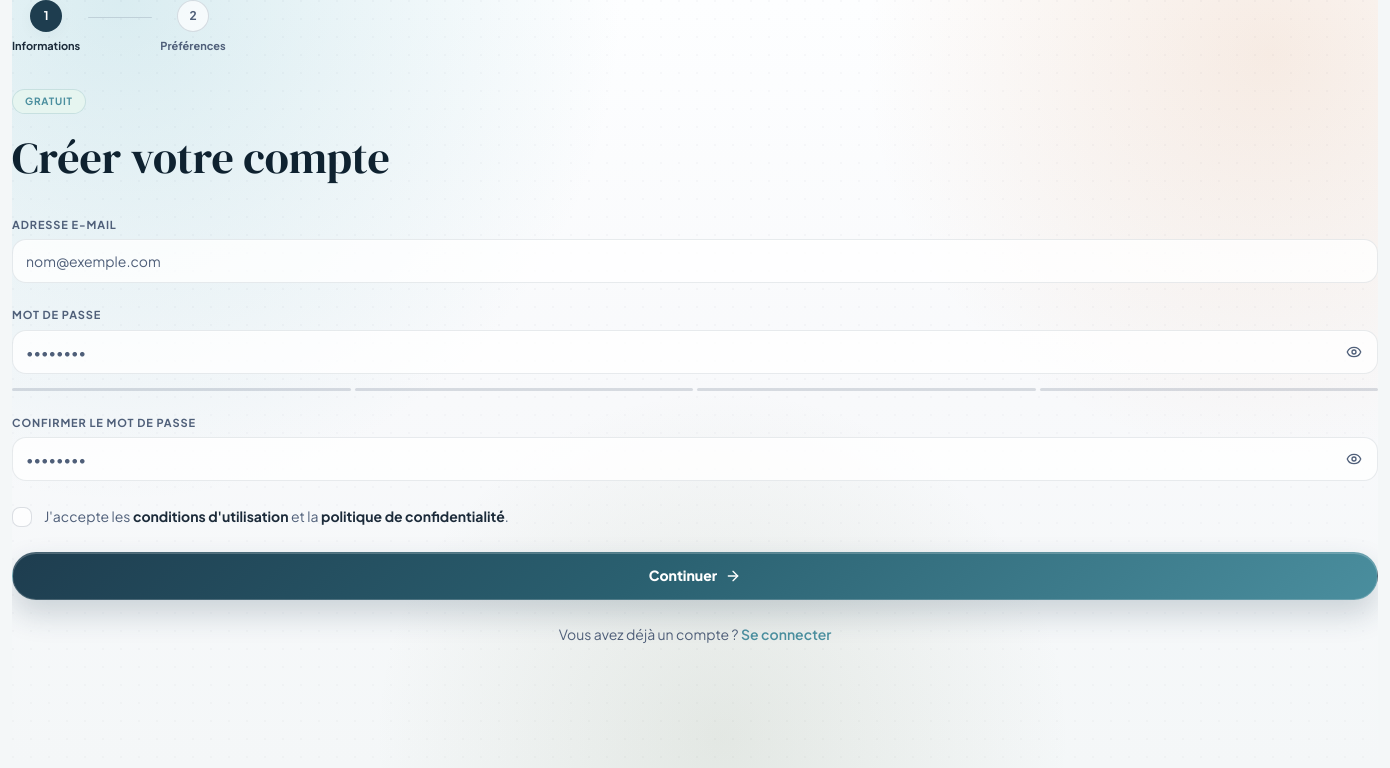
Test: RegisterStep1Form › affiche une erreur si le mot de passe manque une majuscule
The image size is (1390, 768).
Type "user@example.com" into the field labelled "ADRESSE E-MAIL" at {"x": 695, "y": 261}, box [12,239,1378,283]
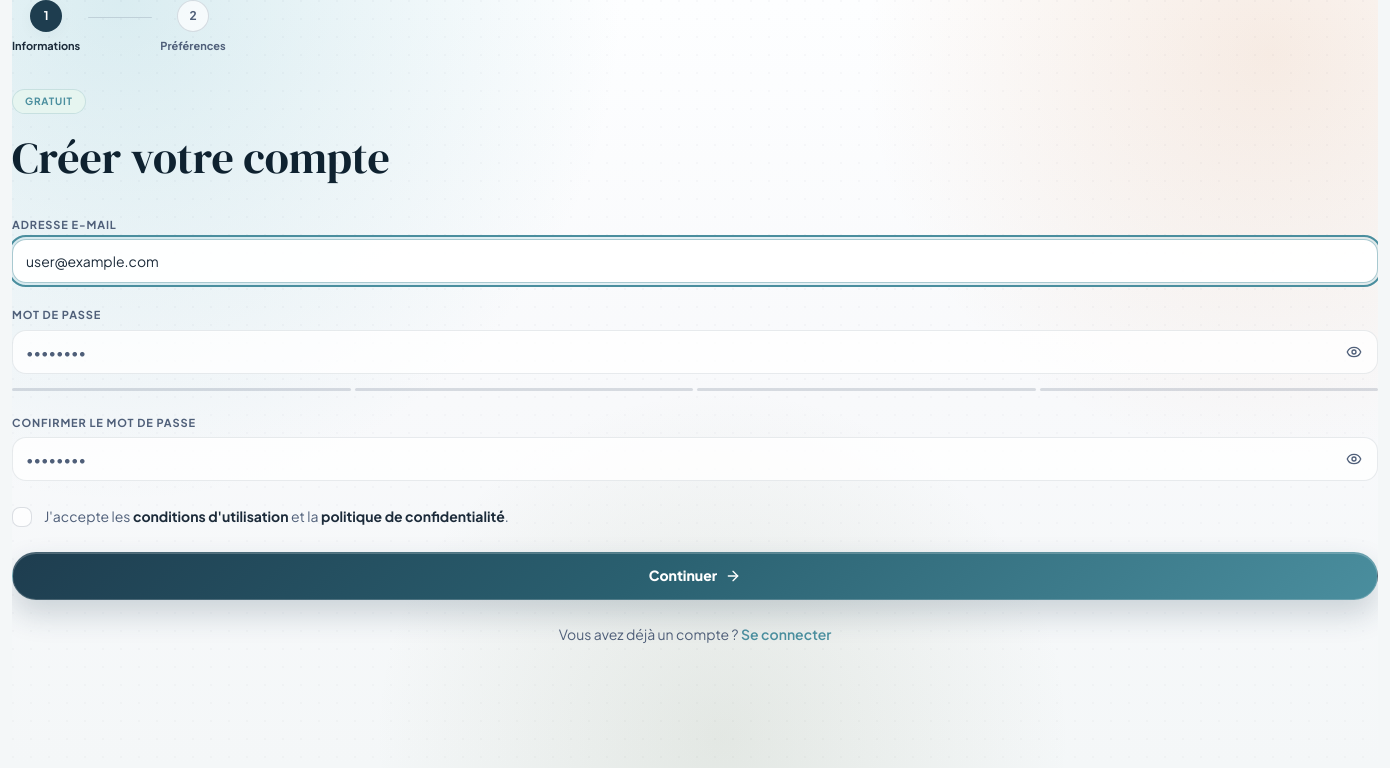
Type "lowercase1" into the password field labelled "MOT DE PASSE" at {"x": 695, "y": 352}, box [12,330,1378,374]
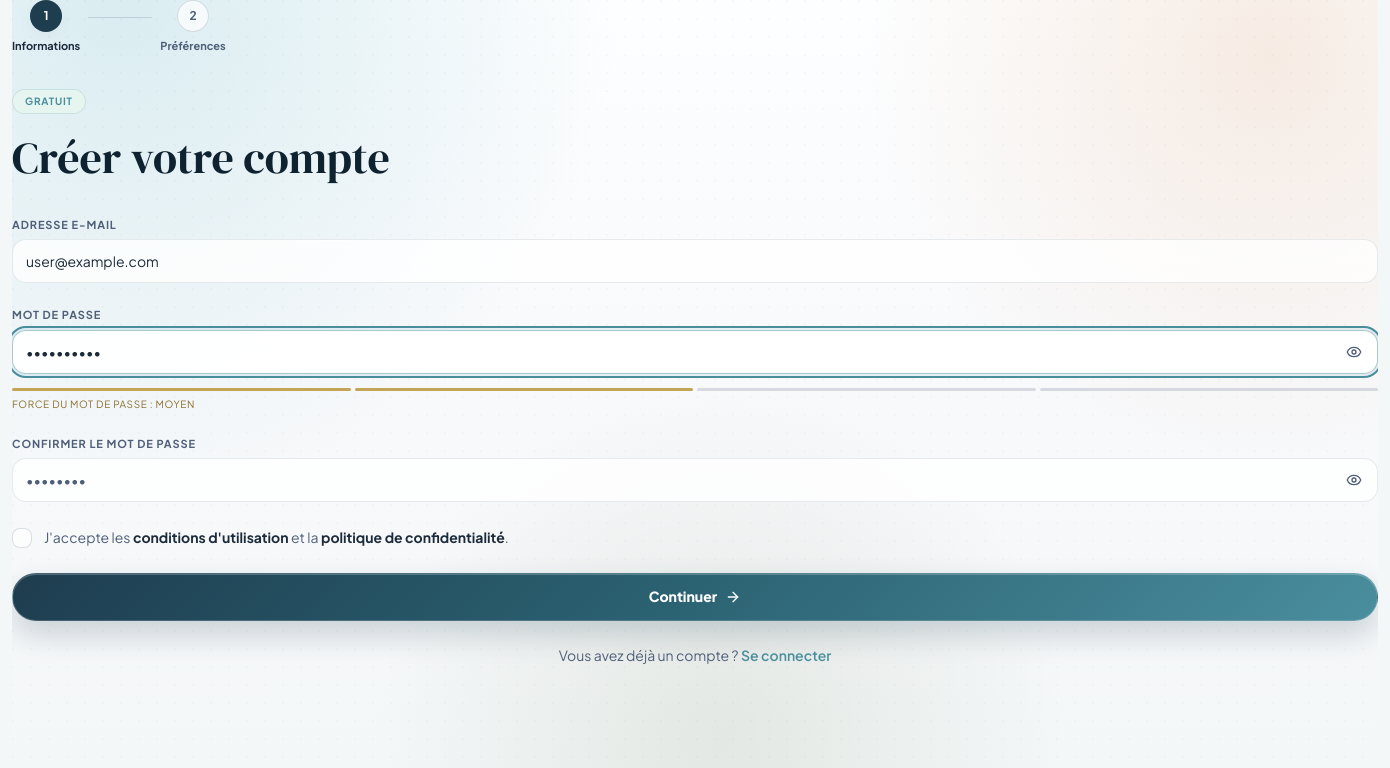
Type "lowercase1" into the password field labelled "CONFIRMER LE MOT DE PASSE" at {"x": 695, "y": 480}, box [12,458,1378,502]
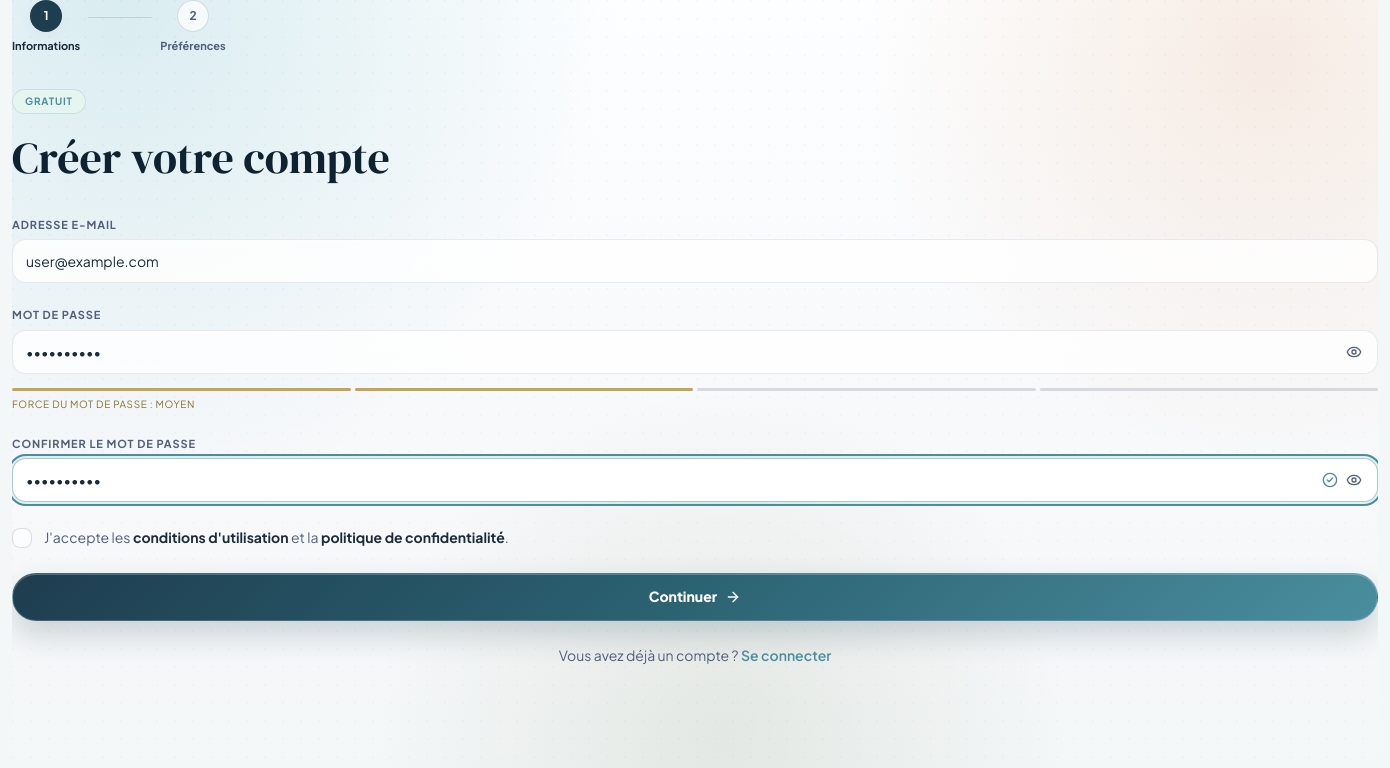
Click the checkbox named "j'accepte les" at {"x": 22, "y": 538}, box [12,528,32,548]
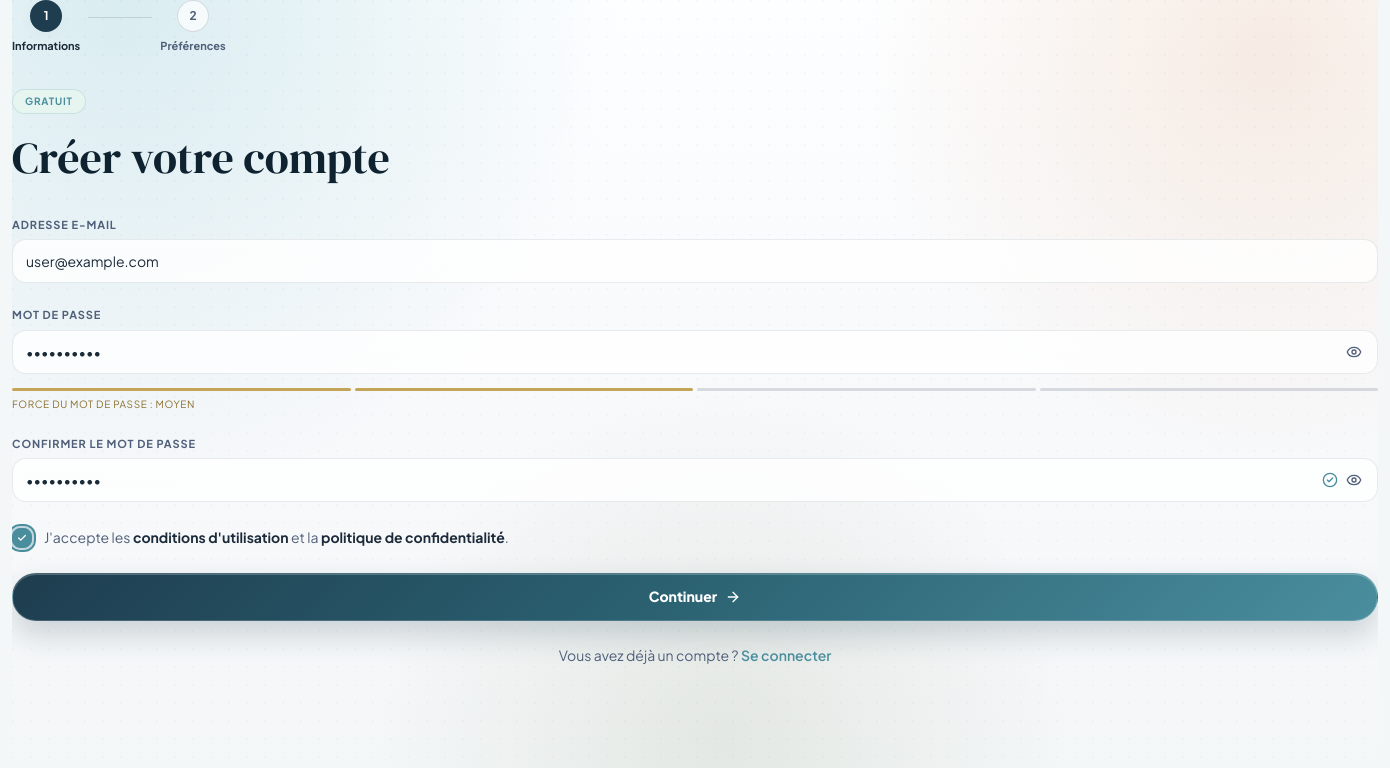
Click the button "Continuer" at {"x": 695, "y": 597}, box [12,573,1378,621]
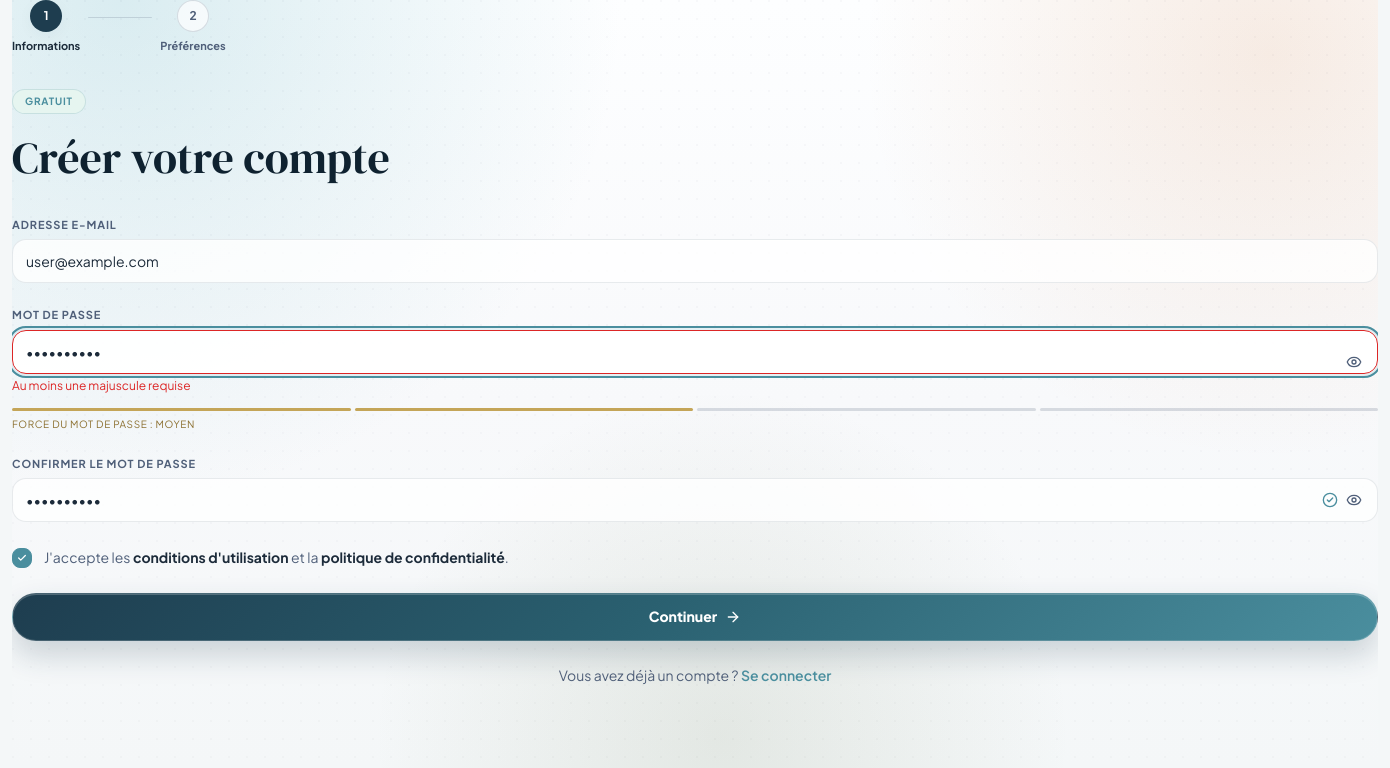
Now the text "Au moins une majuscule requise" is shown, box [12,378,191,392]
